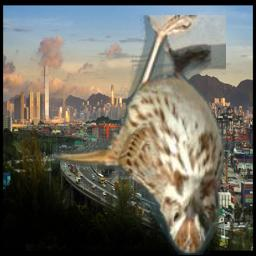Sparrow: (50, 15, 226, 255)
